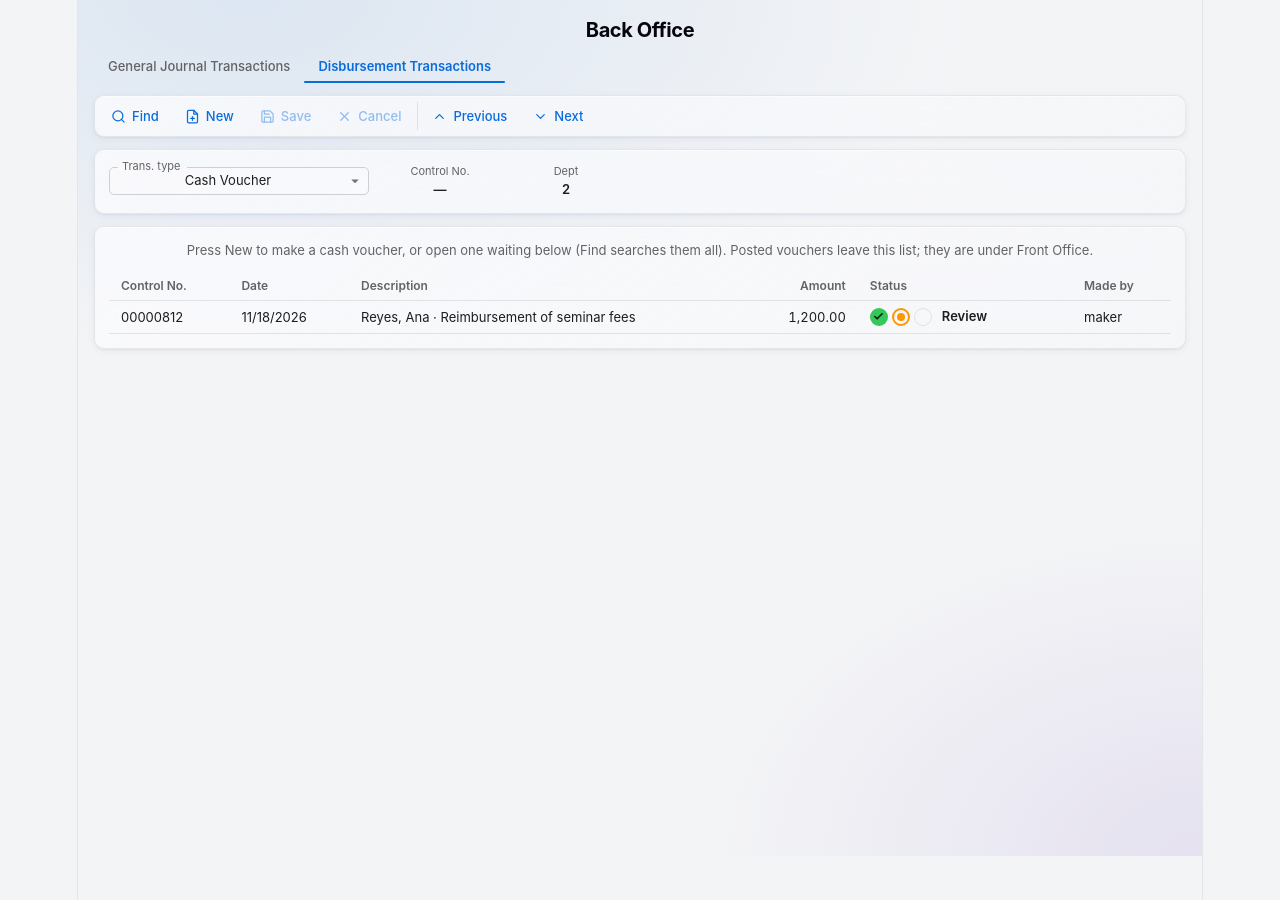
Scenario: Back Office: Disbursement Transactions › is the second window, with every disbursement type of the old system and the vouchers waiting
The image size is (1280, 900).
Check: the picture named "At step 2 of 3: Review" is shown, box [870,307,1006,326]
Click the dropdown named "Trans. type" at x=228, y=180, box [185,172,271,188]
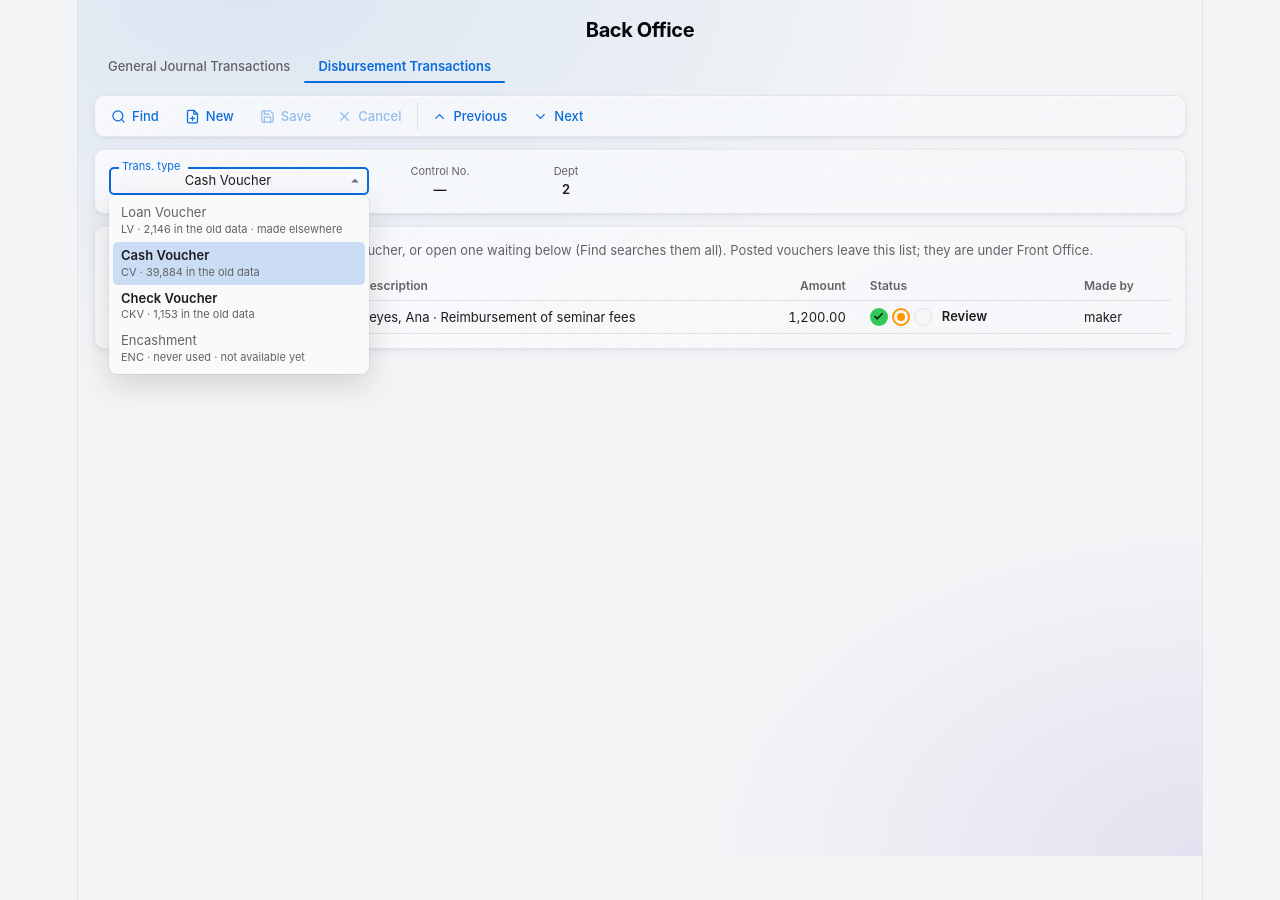
Check: the option "Check Voucher CKV · 1,153 in the old data" is shown, box [121,290,255,321]
Click the option "Loan Voucher LV · 2,146 in the old data · made elsewhere" at x=239, y=220, box [113,199,365,242]
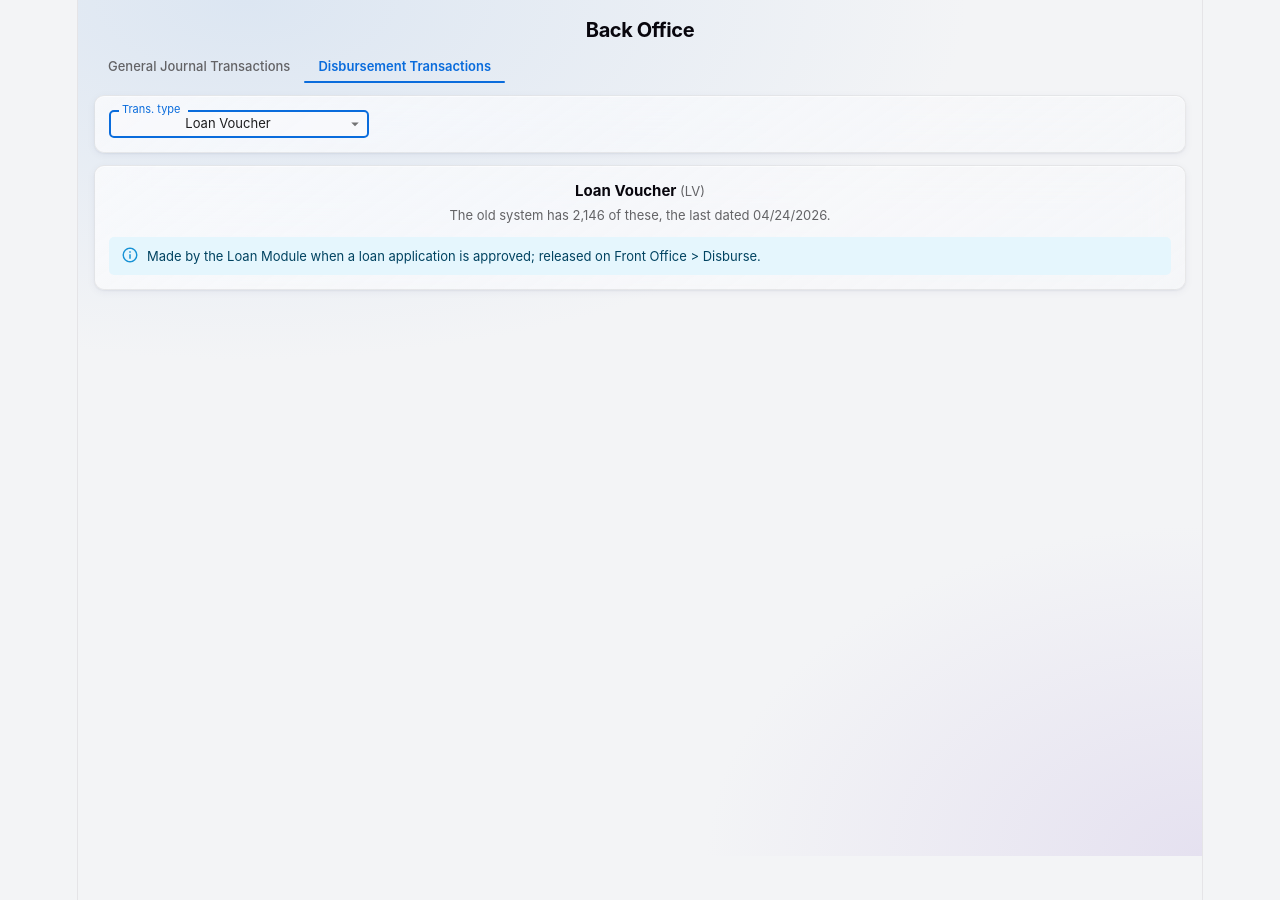
Check: the text "Made by the Loan Module" is shown, box [147,248,761,264]
Check: the element "Entry" is gone
